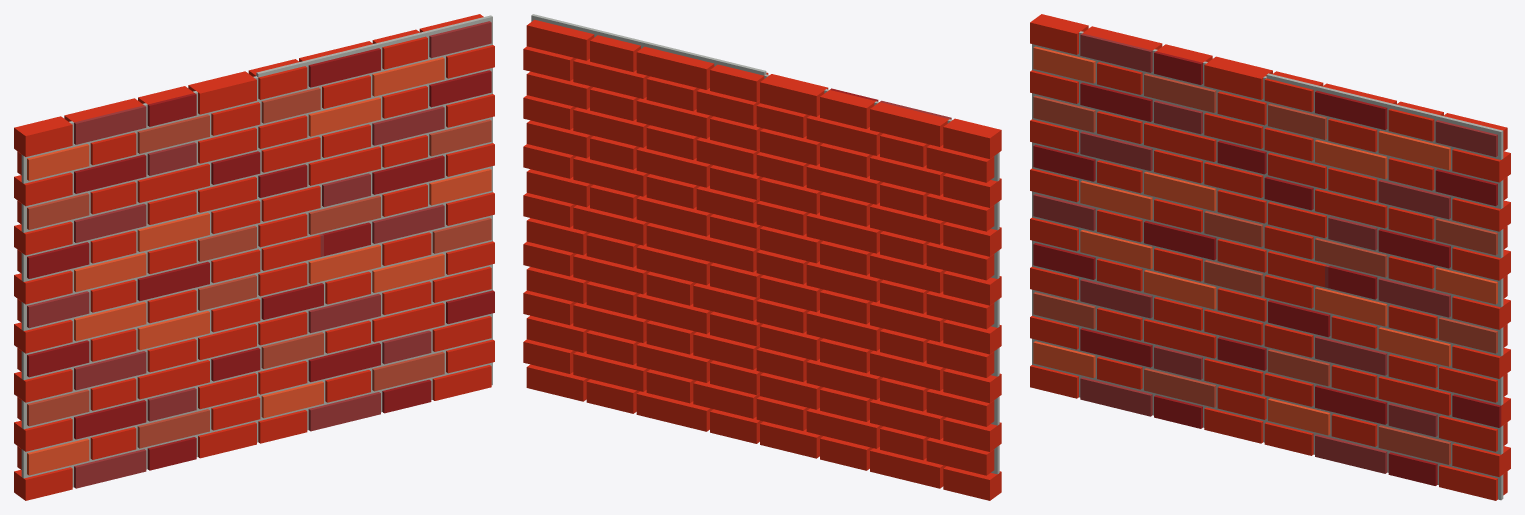
File: wall.obj
3 views of the same model, side by side, from view 1: azimuth 30°, elevation 25°; view 2: azimuth 150°, elevation 25°; view 3: azimuth 330°, elevation 25° (orthographic).
Size of the model in its own units: 14 by 10.5 by 0.6.
1 material, 1 textured.
